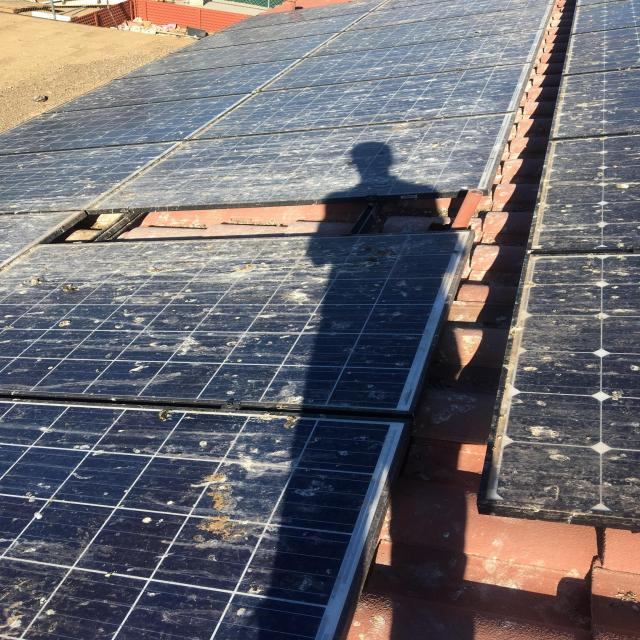dust-solar-panel: (0, 0, 555, 640), (475, 0, 640, 528)
